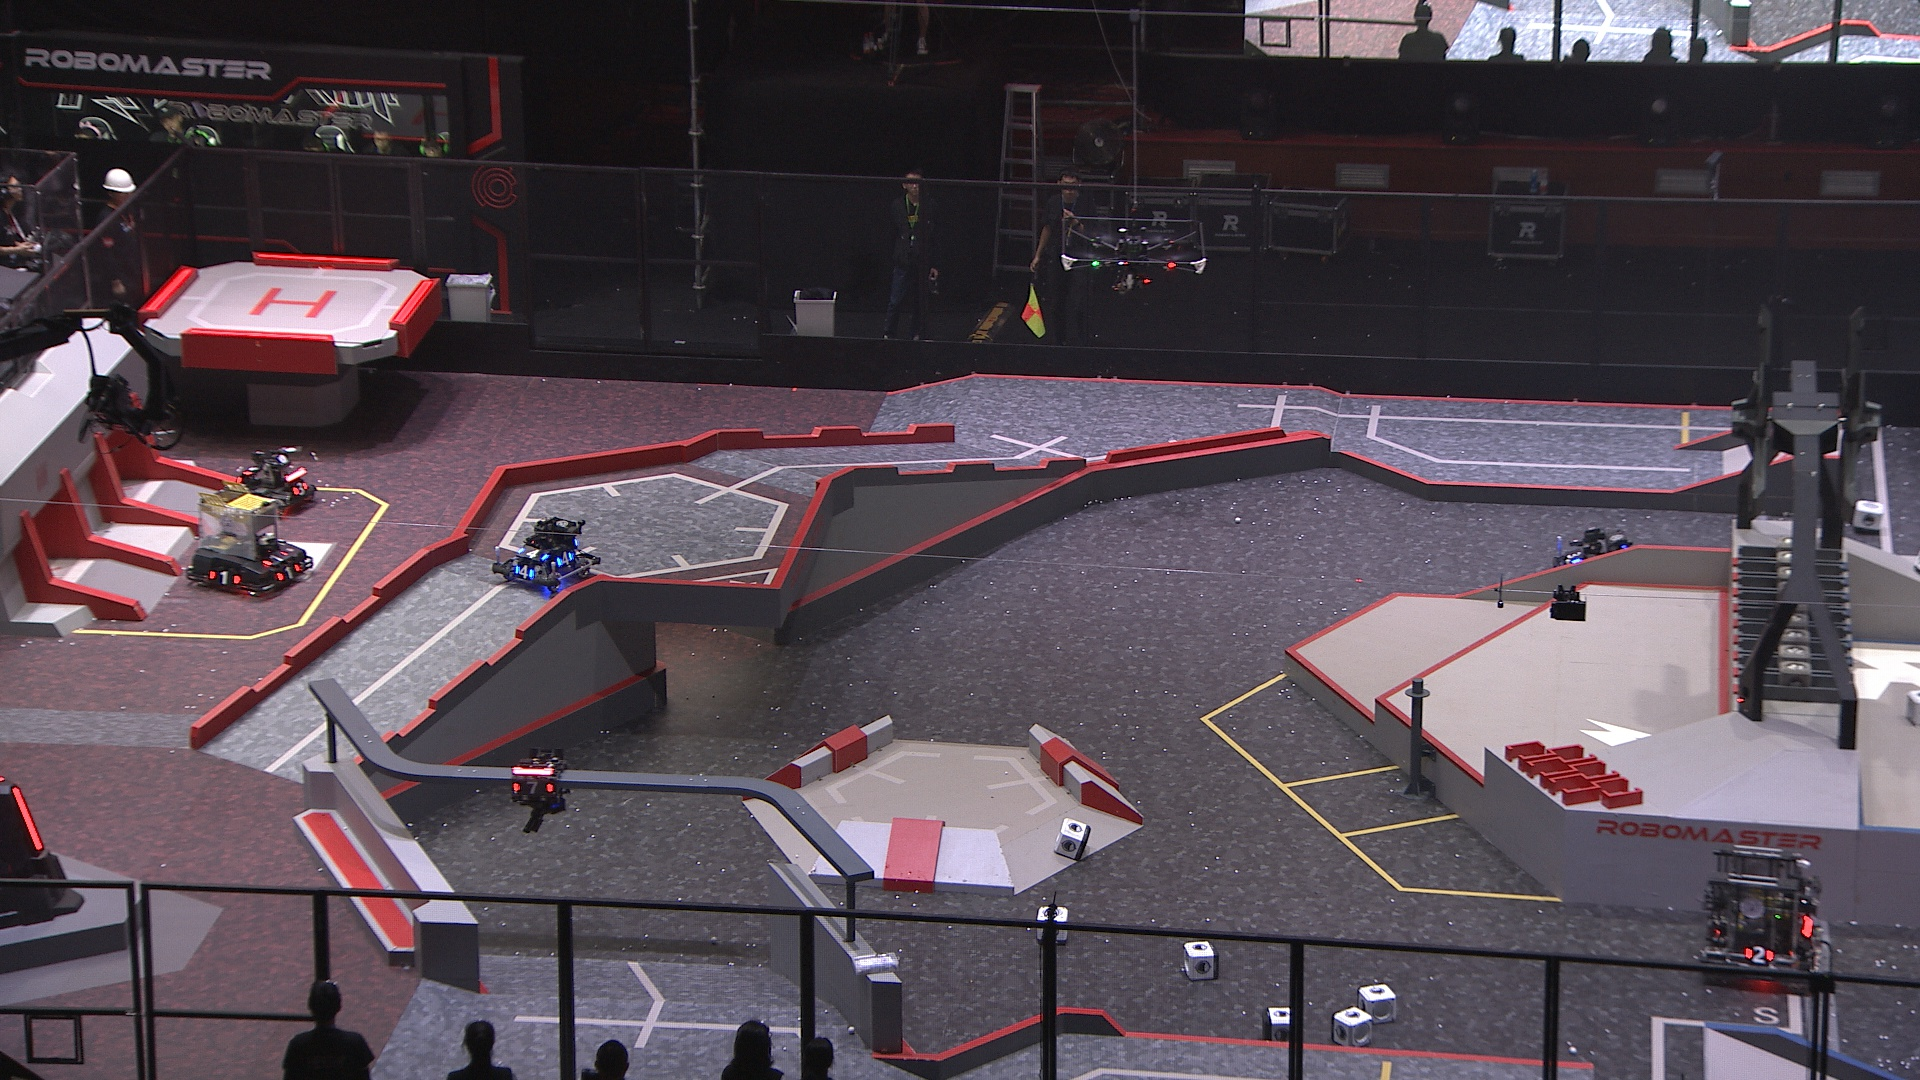armor: (11, 785, 44, 853), (510, 778, 555, 796), (1742, 943, 1776, 965), (272, 559, 301, 584), (257, 549, 291, 568), (206, 568, 240, 585), (518, 543, 550, 562), (553, 547, 576, 567), (512, 564, 535, 583), (1565, 545, 1584, 564), (289, 480, 310, 496), (240, 462, 261, 477)
car: (1695, 840, 1822, 993), (182, 488, 316, 599), (489, 510, 605, 600), (1549, 520, 1642, 599), (233, 443, 319, 517)
watcher: (505, 744, 572, 832)
